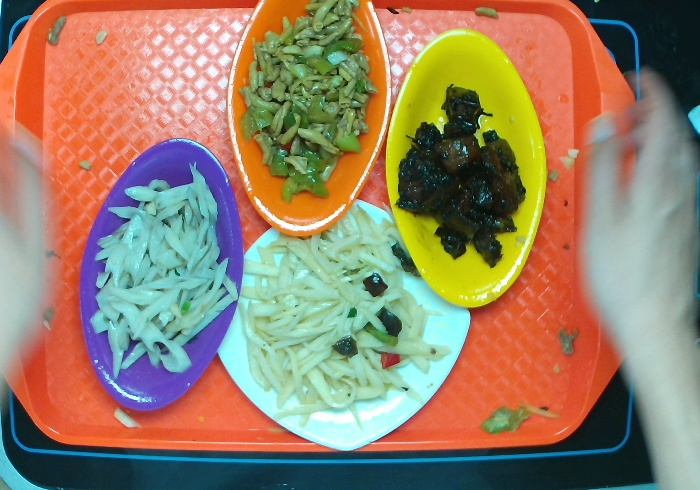RJxy-Fen_Hong_Tuo_Yuan: (77, 135, 246, 412)
RJxy-Huang_Se_Tuo_Yuan: (384, 26, 548, 309)
RJxy-Ju_Huang_Tuo_Yuan: (225, 1, 394, 237)
RJxy-Si_Fang_Die: (216, 196, 471, 453)
